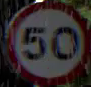Speed limit: (6, 1, 90, 81)
